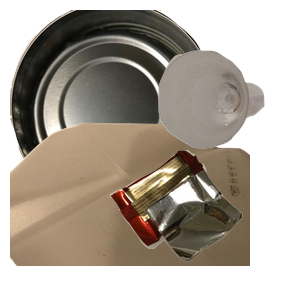glass: (156, 48, 300, 189)
metal: (10, 10, 221, 190)
plastic: (10, 120, 250, 300)
trash: (107, 148, 300, 300)
